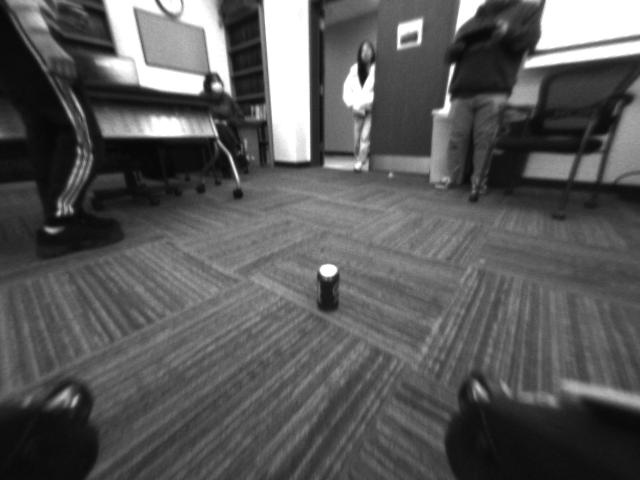can: (312, 252, 347, 320)
